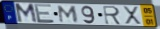9: (81, 5, 97, 25)
E: (33, 3, 56, 24)
M: (14, 3, 39, 24), (58, 5, 80, 23)
R: (102, 5, 124, 26)
X: (122, 6, 143, 26)
